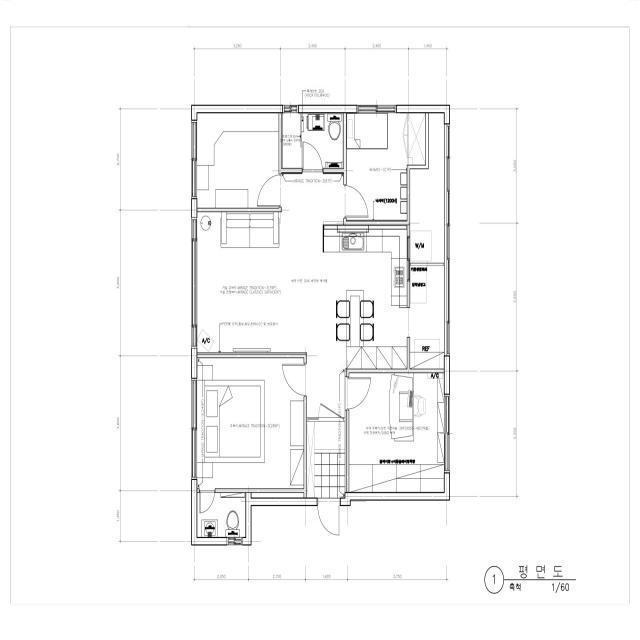space_bedroom: (197, 358, 304, 488), (349, 373, 444, 492), (347, 113, 425, 220), (197, 113, 279, 208)
space_front: (307, 422, 345, 497)
space_kitchen: (323, 225, 444, 369)
space_living_room: (197, 174, 345, 417)
space_other: (410, 113, 444, 263)
space_toilet: (283, 113, 343, 168), (197, 493, 245, 537)
